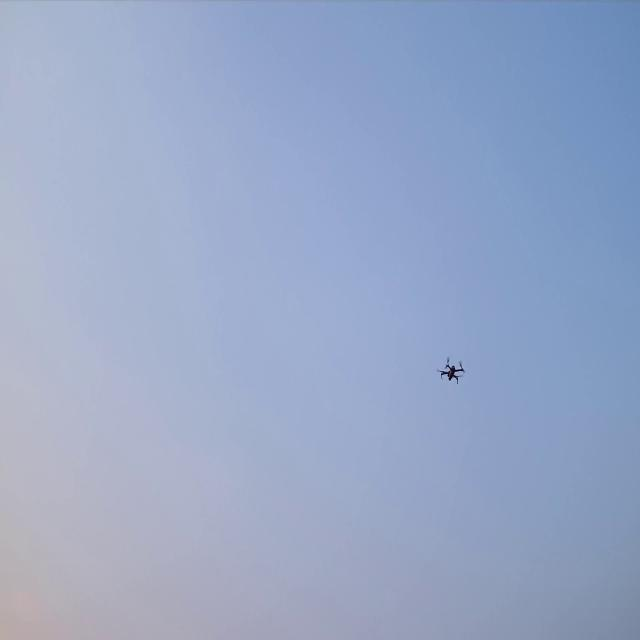UAV: (435, 354, 466, 385)
